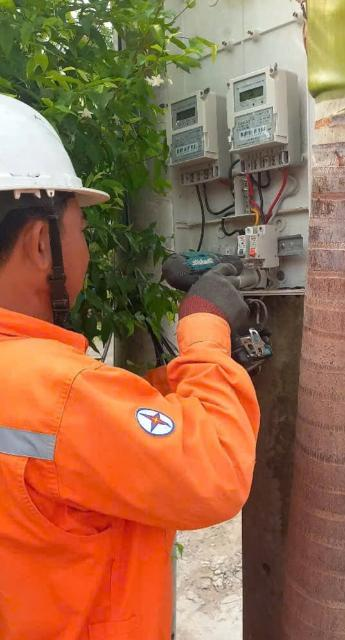gloves: (173, 253, 279, 348)
helmet: (0, 70, 113, 233)
